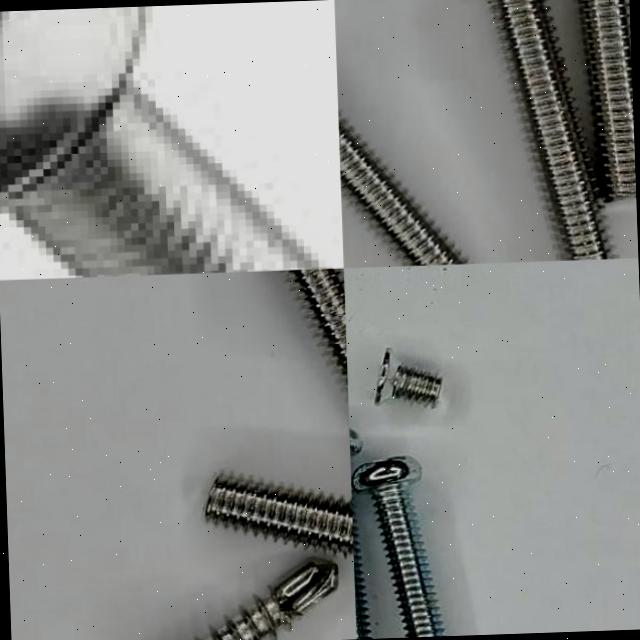Screw: (0, 6, 328, 277), (490, 0, 614, 260), (338, 111, 469, 265), (351, 456, 446, 637), (206, 474, 353, 555), (578, 0, 636, 200), (196, 561, 339, 640), (374, 347, 443, 407)
